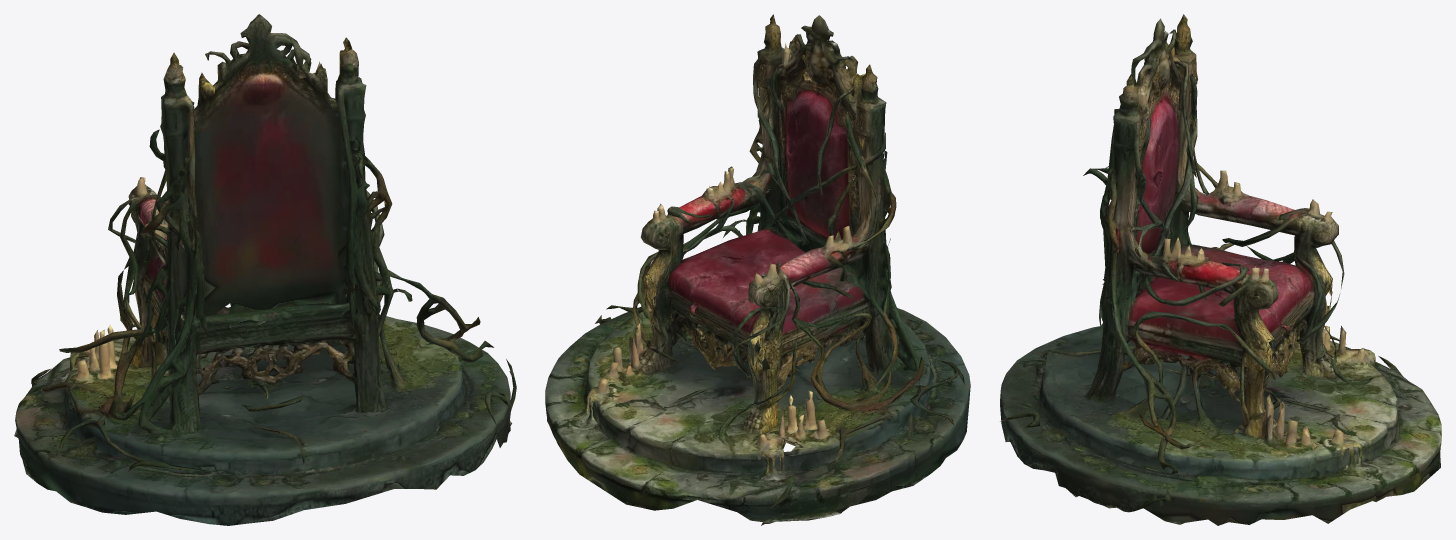
File: throne.glb
The picture shows the model from 3 angles, left to right: view 1: azimuth 30°, elevation 25°; view 2: azimuth 150°, elevation 25°; view 3: azimuth 270°, elevation 25°; orthographic projection. The views are drawn at different scales.
Parts seen in each view (by area): view 1: geometry_0; view 2: geometry_0; view 3: geometry_0.
Boxes of the visible parts, x1,y1,x2,y2 form: geometry_0: (14, 14, 516, 525); geometry_0: (545, 14, 970, 525); geometry_0: (1000, 14, 1441, 525).
Size of the model in its own units: 0.7359 by 0.7678 by 0.7272.
Materials: 1 (1 with a texture image).
